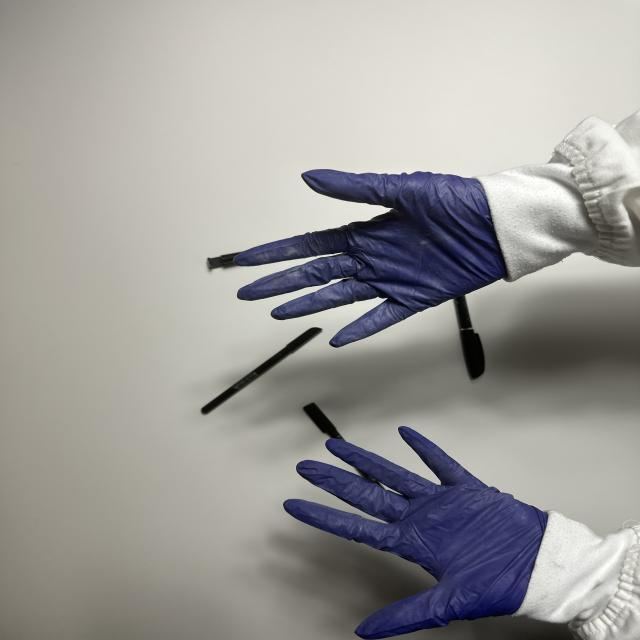gloves_contaminated: (284, 427, 550, 640), (235, 170, 506, 346)
